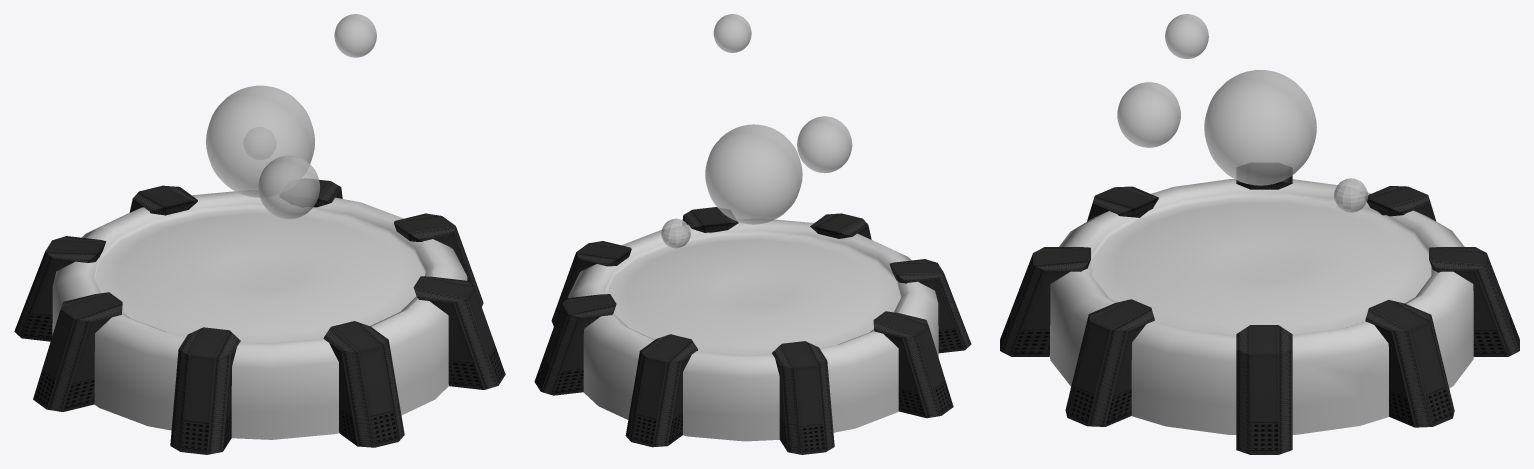
File: Holomap.fbx
3 views of the same model, side by side, from view 1: azimuth 30°, elevation 25°; view 2: azimuth 150°, elevation 25°; view 3: azimuth 270°, elevation 25° (orthographic). The views are drawn at different scales.
Parts seen in each view (by area): view 1: HolomapProjecter, Planet3, HolomapFrame2, HolomapFrame3, HolomapFrame4, HolomapFrame1, HolomapFrame5, Planet, HolomapFrame, Planet4, HolomapFrame6, HolomapFrame7; view 2: HolomapProjecter, Planet3, HolomapFrame5, HolomapFrame6, HolomapFrame4, HolomapFrame7, HolomapFrame3, Planet, HolomapFrame, Planet4, HolomapFrame2, HolomapFrame1 (+1 smaller); view 3: HolomapProjecter, Planet3, HolomapFrame, HolomapFrame1, HolomapFrame7, HolomapFrame2, HolomapFrame6, Planet, HolomapFrame3, HolomapFrame5, Planet4, HolomapFrame4 (+1 smaller).
Part boxes in pixels (x1,y1,x2,y2): HolomapProjecter: (52, 190, 467, 439); Planet3: (206, 85, 314, 197); HolomapFrame2: (323, 321, 404, 447); HolomapFrame3: (170, 327, 240, 454); HolomapFrame4: (33, 292, 122, 411); HolomapFrame1: (413, 276, 505, 389); HolomapFrame5: (14, 236, 106, 341); Planet: (258, 155, 320, 219); HolomapFrame: (394, 213, 483, 306); Planet4: (334, 14, 376, 57); HolomapFrame6: (129, 185, 197, 215); HolomapFrame7: (280, 178, 342, 207); HolomapProjecter: (568, 219, 938, 441); Planet3: (705, 124, 802, 224); HolomapFrame5: (772, 341, 834, 454); HolomapFrame6: (625, 334, 697, 447); HolomapFrame4: (873, 311, 953, 418); HolomapFrame7: (534, 294, 616, 395); HolomapFrame3: (889, 259, 971, 353); Planet: (797, 116, 852, 173); HolomapFrame: (551, 241, 631, 326); Planet4: (713, 14, 751, 52); HolomapFrame2: (810, 213, 871, 239); HolomapFrame1: (682, 207, 738, 232); HolomapProjecter: (1050, 179, 1473, 434); Planet3: (1204, 70, 1316, 185); HolomapFrame: (1236, 325, 1292, 454); HolomapFrame1: (1065, 299, 1154, 426); HolomapFrame7: (1365, 300, 1454, 427); HolomapFrame2: (1000, 247, 1090, 356); HolomapFrame6: (1429, 247, 1519, 356); Planet: (1117, 82, 1180, 147); HolomapFrame3: (1087, 186, 1158, 221); HolomapFrame5: (1364, 186, 1436, 221); Planet4: (1165, 14, 1208, 58); HolomapFrame4: (1236, 163, 1292, 189).
Bounding box in the file's own units: 4.86 × 3.7 × 4.85.
